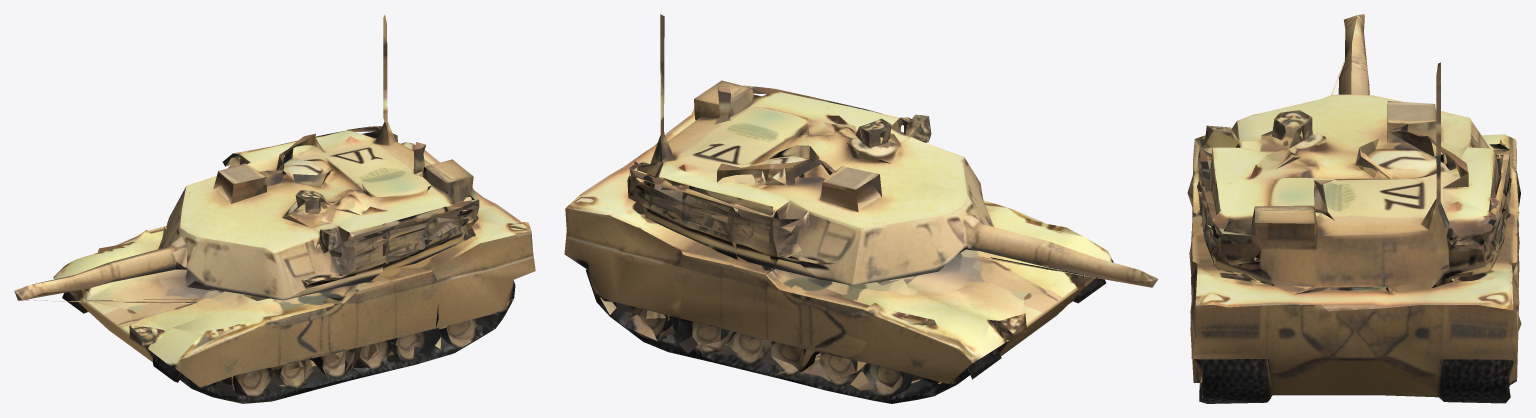
Rendered from abrams_old.glb.
3 views of the same model, side by side, from view 1: azimuth 30°, elevation 25°; view 2: azimuth 150°, elevation 25°; view 3: azimuth 270°, elevation 25° (orthographic). The views are drawn at different scales.
Visible parts, largest first — view 1: tmpw2nr28bn.ply; view 2: tmpw2nr28bn.ply; view 3: tmpw2nr28bn.ply.
Boxes of the visible parts, <box> form: tmpw2nr28bn.ply: <box>14,14,535,403</box>; tmpw2nr28bn.ply: <box>564,14,1158,403</box>; tmpw2nr28bn.ply: <box>1187,14,1521,403</box>.
Size of the model in its own units: 1.96 by 1.11 by 0.9554.
1 material, 1 textured.
